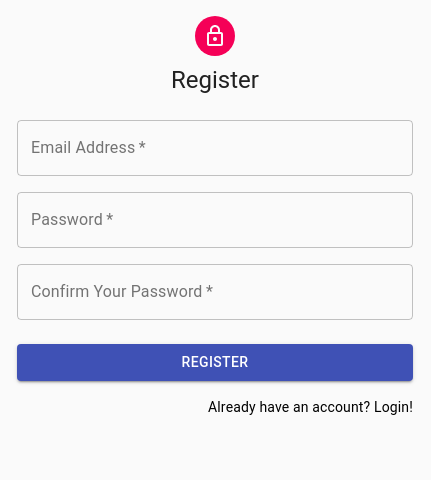
Register page › it displays an error when passwords don't match
In the field labelled "Email Address *": (215, 148) [17,120,413,176], type "test@email.com"
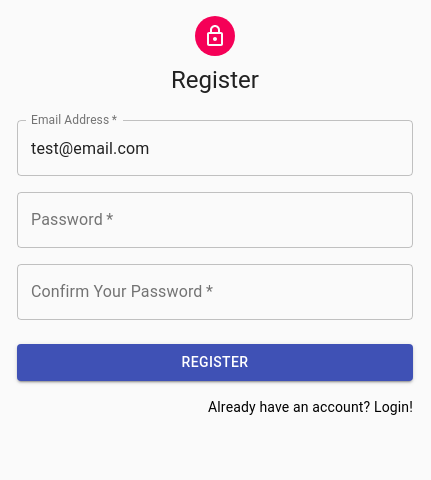
In the password field labelled "Password *": (215, 220) [17,192,413,248], type "test"
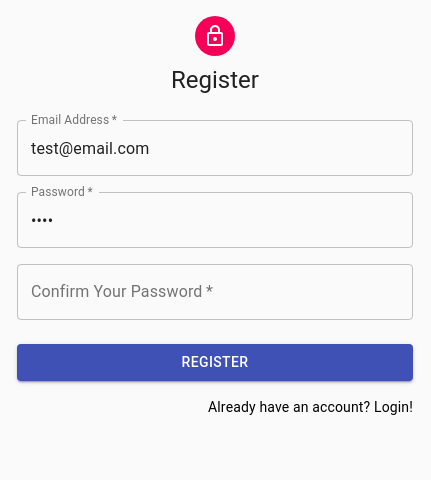
In the password field labelled "Confirm Your Password *": (215, 292) [17,264,413,320], type "different"
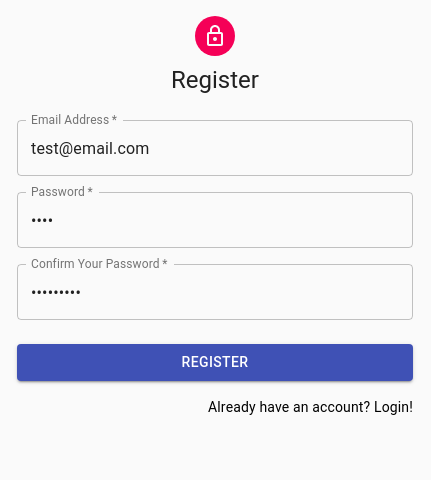
Click the button: (215, 362) [17,344,413,380]
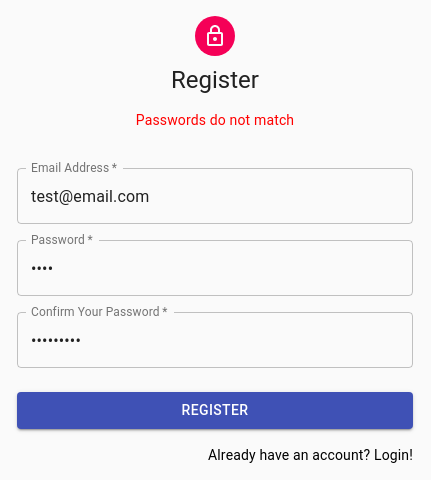
Expected: the text "Passwords do not match" is shown, [136,110,294,130]
